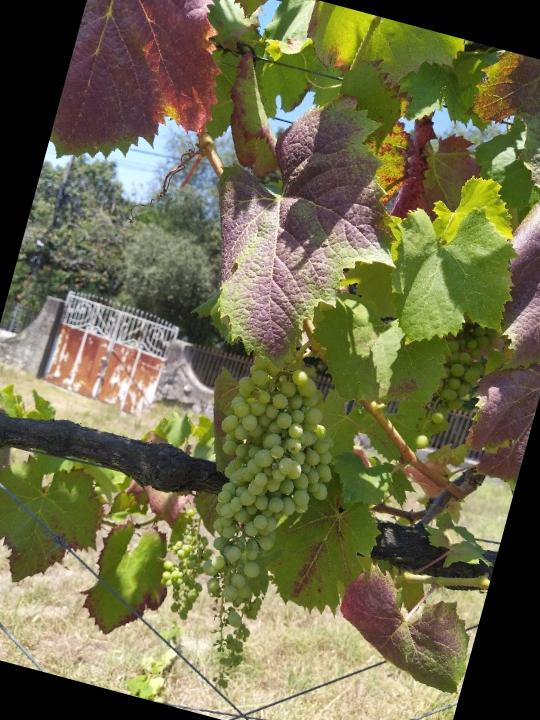grape: (155, 336, 365, 709), (142, 503, 231, 629)
